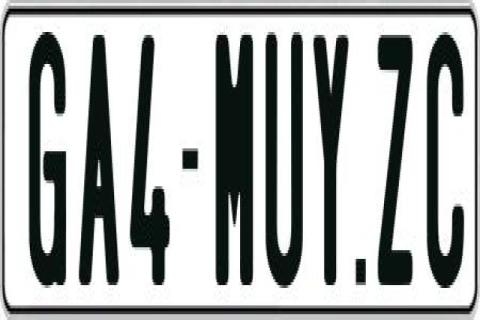0: (128, 29, 172, 288)
A: (78, 35, 122, 285)
C: (424, 29, 464, 294)
G: (26, 26, 68, 291)
M: (215, 35, 255, 285)
U: (264, 29, 304, 285)
Y: (312, 27, 350, 286)
Z: (378, 32, 413, 291)
